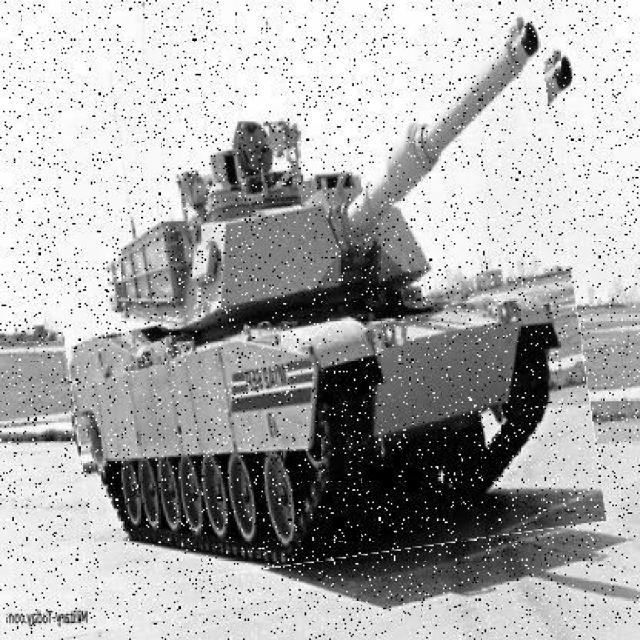Tank: (47, 31, 590, 577)
